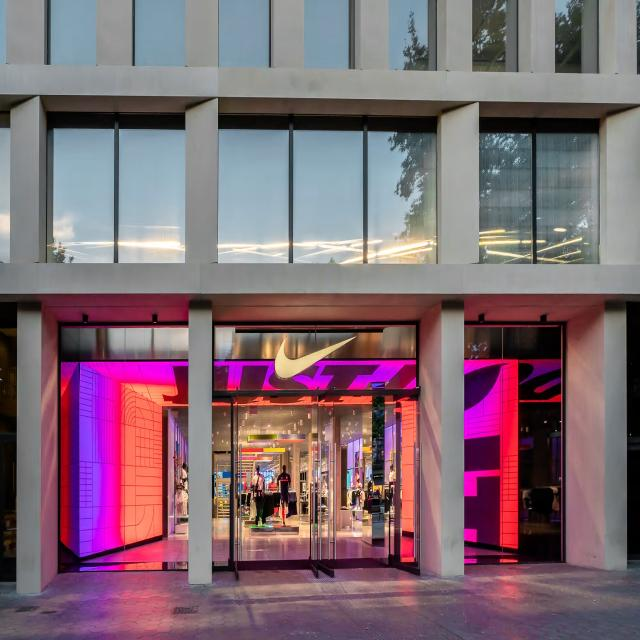nike: (266, 325, 368, 387)
